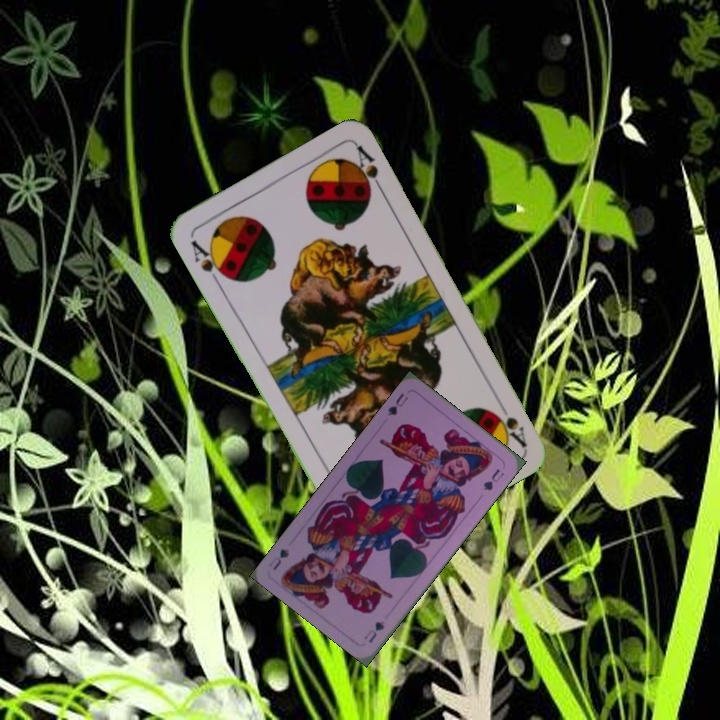GU: (383, 389, 411, 418), (360, 617, 387, 645)
SA: (186, 235, 232, 289), (490, 394, 530, 450)
